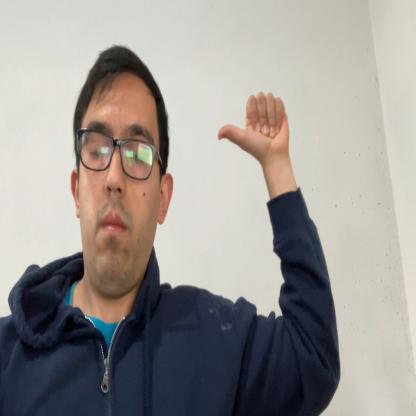A: (218, 92, 291, 161)
